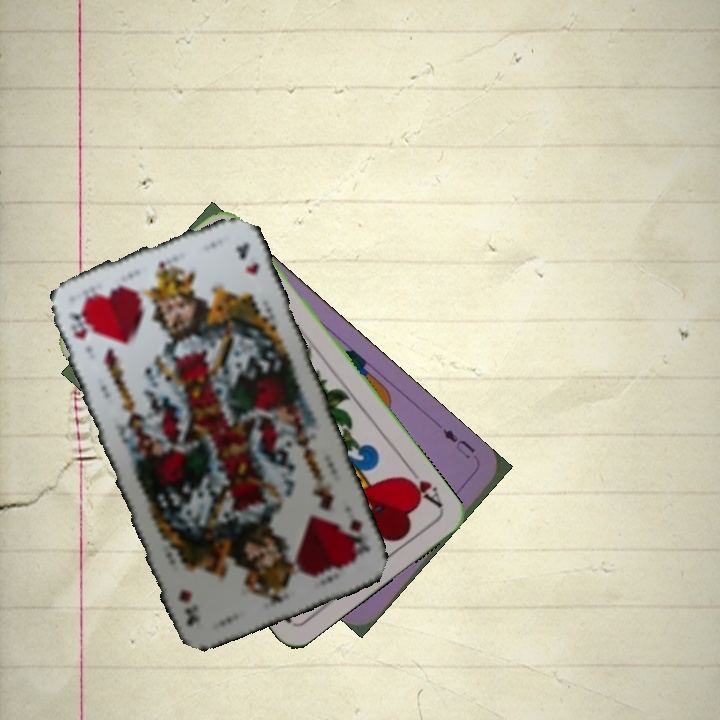EU: (438, 424, 478, 462)
HA: (398, 460, 445, 511)
HK: (338, 507, 373, 563), (65, 305, 92, 343)
